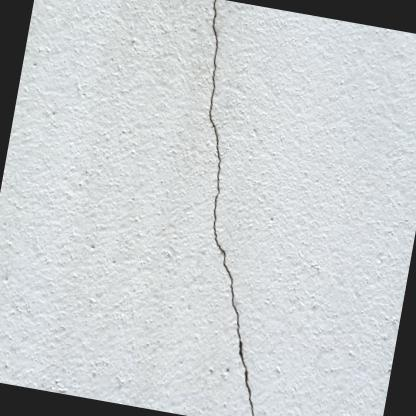crack: (207, 0, 255, 416)
